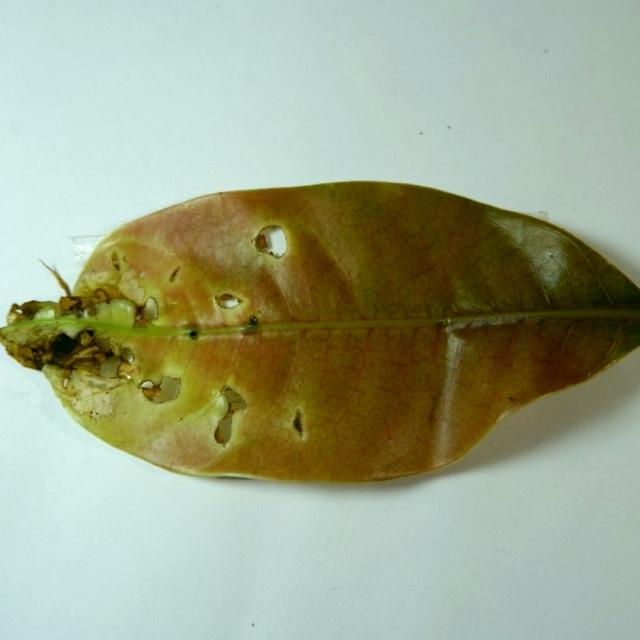Anthracnose: (246, 222, 297, 276), (213, 387, 251, 445), (251, 224, 289, 260), (138, 374, 182, 402), (99, 355, 122, 379), (214, 292, 243, 311), (291, 407, 305, 437), (143, 296, 159, 321), (214, 422, 229, 445), (251, 236, 265, 250), (121, 349, 134, 364), (139, 380, 156, 391), (188, 329, 199, 340)
Mango: (0, 182, 639, 488)
